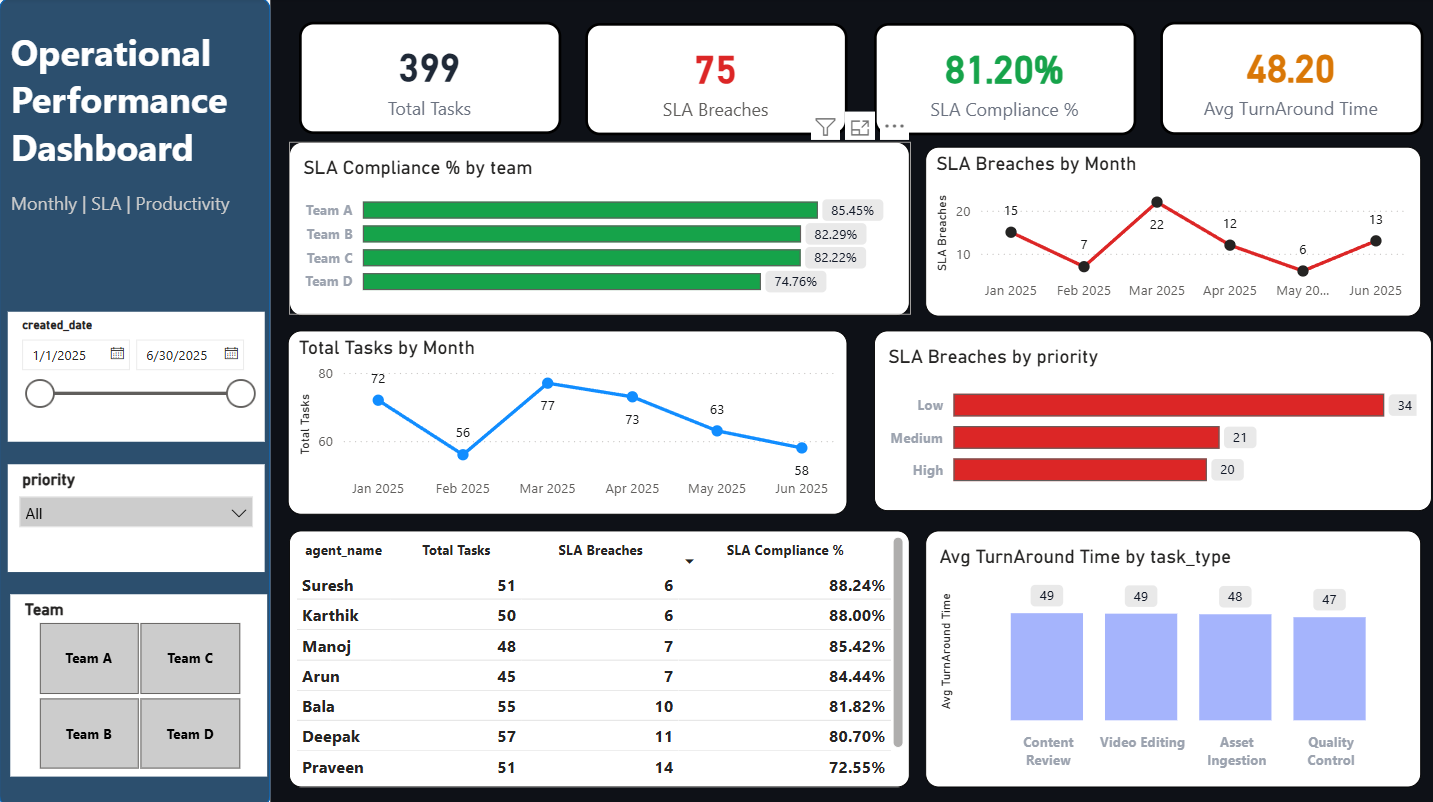

This screenshot's page, from the dashboard's own definition file:
{"tool":"powerbi","page":{"name":"dashboard","canvas":[1280,720],"ordinal":0},"visuals":[{"type":"card","fields":{"Values":["operations_data.Total Tasks"]},"box":[267.2,20.7,233.8,100.2],"z":0},{"type":"tableEx","fields":{"Values":["operations_data.agent_name","operations_data.Total Tasks","operations_data.SLA Breaches","operations_data.SLA Compliance %"]},"box":[258.6,473.9,553.2,228.4],"z":1000},{"type":"card","fields":{"Values":["operations_data.SLA Breaches"]},"box":[521.7,22.3,233.8,100.2],"z":2000},{"type":"card","fields":{"Values":["operations_data.SLA Compliance %"]},"box":[779.4,22.3,233.8,100.2],"z":3000},{"type":"card","fields":{"Values":["operations_data.Avg TurnAround Time"]},"box":[1033.9,20.7,234,101],"z":4000},{"type":"shape","box":[0,0,241.8,720.5],"z":5000},{"type":"barChart","fields":{"Category":["operations_data.team"],"Y":["operations_data.SLA Compliance %"]},"box":[258.6,128.4,553.2,154.8],"z":6000},{"type":"slicer","fields":{"Values":["operations_data.team"]},"box":[9.5,531.4,228.4,162.4],"z":6000,"group":"g1"},{"type":"barChart","fields":{"Category":["operations_data.priority"],"Y":["operations_data.SLA Breaches"]},"box":[779.7,296.4,496.5,160.5],"z":7000},{"type":"slicer","fields":{"Values":["operations_data.priority"]},"box":[7.6,414.9,228.4,96.3],"z":7000,"group":"g1"},{"type":"lineChart","fields":{"Category":["operations_data.Month"],"Y":["operations_data.SLA Breaches"]},"box":[825,132.2,441.8,151],"z":8000},{"type":"slicer","fields":{"Values":["operations_data.created_date"]},"box":[7.6,279.4,228.4,115.2],"z":8000,"group":"g1"},{"type":"areaChart","fields":{"Category":["operations_data.Month"],"Y":["operations_data.Total Tasks"]},"box":[256.8,296.4,498.4,164.2],"z":9000},{"type":"clusteredColumnChart","fields":{"Category":["operations_data.task_type"],"Y":["operations_data.Avg TurnAround Time"]},"box":[825,473.9,441.8,228.4],"z":10000},{"type":"textbox","box":[5.7,20.8,236,226.5],"z":11000},{"type":"group","id":"g1","title":"Group 1","box":[7.6,279.4,230.3,415.3],"z":12000}]}

Visuals, with their boxes in screenshot pixels (x1, y1, x2, y2), scaled from the page's 1280x720 canvas onto the 1433x802 screenshot:
card - operations_data.Total Tasks: (left=299, top=23, right=561, bottom=135)
tableEx - operations_data.agent_name x operations_data.Total Tasks: (left=290, top=528, right=909, bottom=782)
card - operations_data.SLA Breaches: (left=584, top=25, right=846, bottom=136)
card - operations_data.SLA Compliance %: (left=873, top=25, right=1134, bottom=136)
card - operations_data.Avg TurnAround Time: (left=1157, top=23, right=1419, bottom=136)
shape: (left=0, top=0, right=271, bottom=801)
barChart - operations_data.team x operations_data.SLA Compliance %: (left=290, top=143, right=909, bottom=315)
slicer - operations_data.team: (left=11, top=592, right=266, bottom=773)
barChart - operations_data.priority x operations_data.SLA Breaches: (left=873, top=330, right=1429, bottom=509)
slicer - operations_data.priority: (left=9, top=462, right=264, bottom=569)
lineChart - operations_data.Month x operations_data.SLA Breaches: (left=924, top=147, right=1418, bottom=315)
slicer - operations_data.created_date: (left=9, top=311, right=264, bottom=440)
areaChart - operations_data.Month x operations_data.Total Tasks: (left=287, top=330, right=845, bottom=513)
clusteredColumnChart - operations_data.task_type x operations_data.Avg TurnAround Time: (left=924, top=528, right=1418, bottom=782)
textbox: (left=6, top=23, right=271, bottom=275)
"Group 1" group: (left=9, top=311, right=266, bottom=774)
